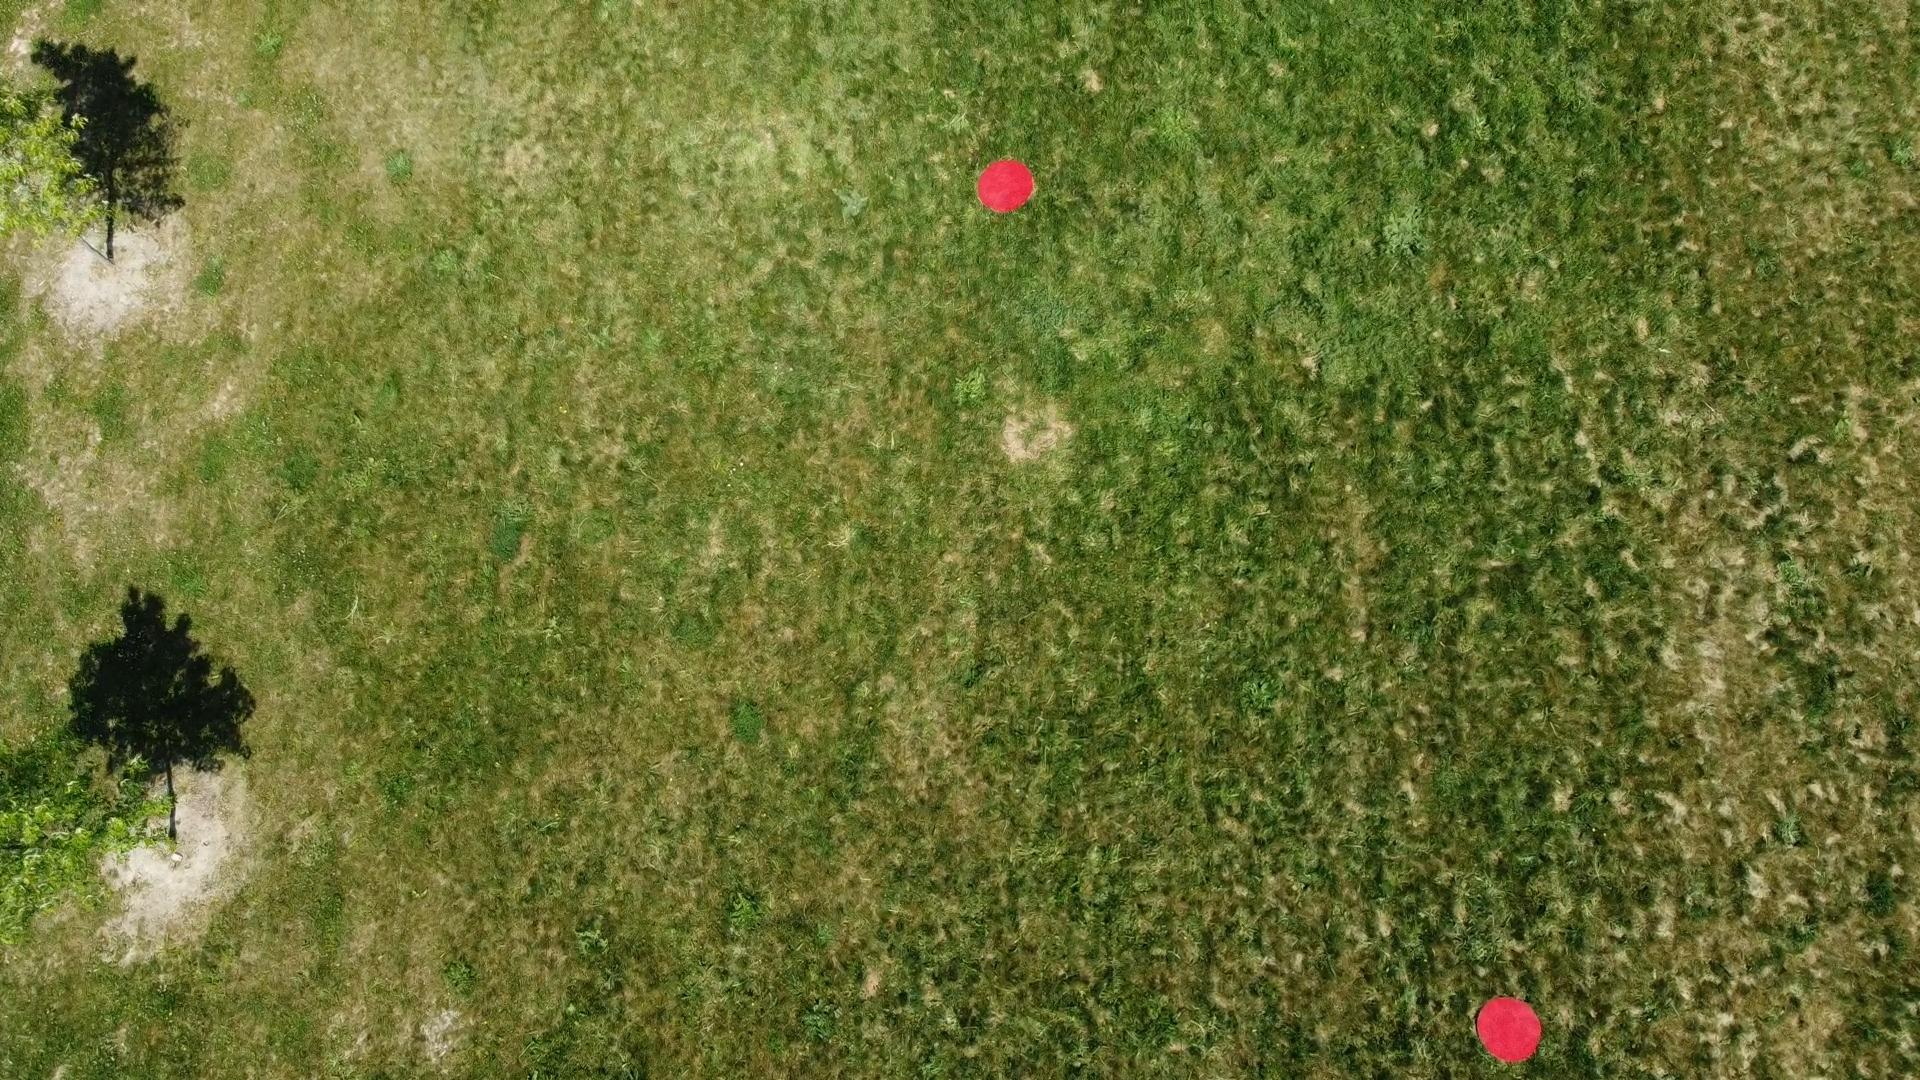Red: (1474, 994, 1545, 1064), (973, 157, 1038, 214)
